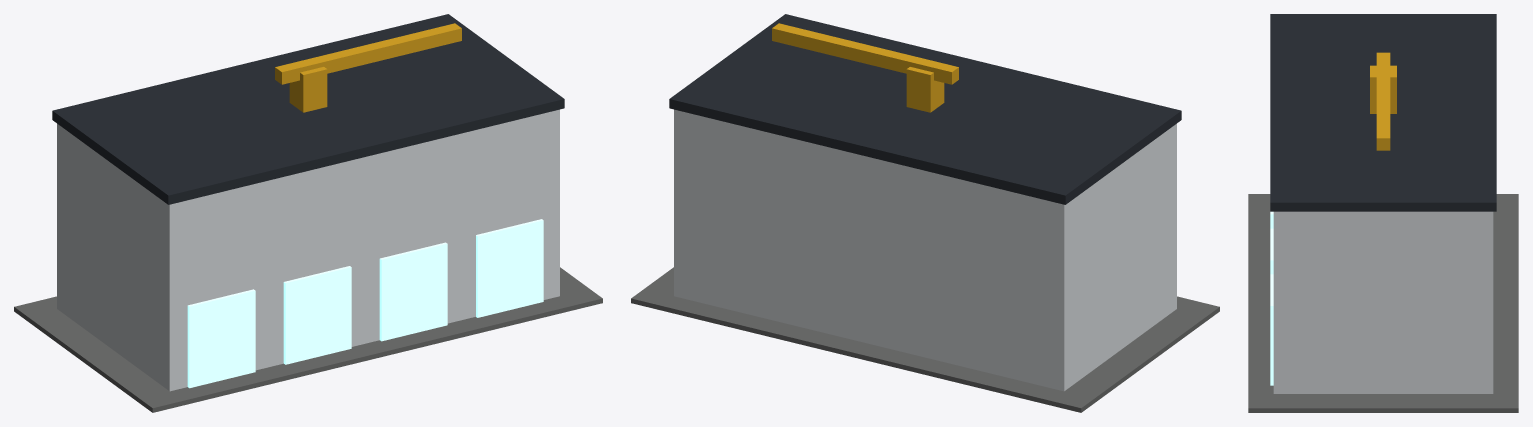
File: bld_special_warehouse_a08_lod2.glb
3 renders of one model, left to right at view 1: azimuth 30°, elevation 25°; view 2: azimuth 150°, elevation 25°; view 3: azimuth 270°, elevation 25°, orthographic. The views are drawn at different scales.
Parts seen in each view (by area): view 1: body, crane; view 2: body, crane; view 3: body, crane.
Boxes of the visible parts, x1,y1,x2,y2 form: body: [14, 14, 602, 412]; crane: [275, 23, 461, 112]; body: [631, 14, 1219, 412]; crane: [772, 23, 958, 112]; body: [1248, 14, 1518, 412]; crane: [1370, 52, 1396, 150].
Size of the model in its own units: 15 by 7.8 by 8.
